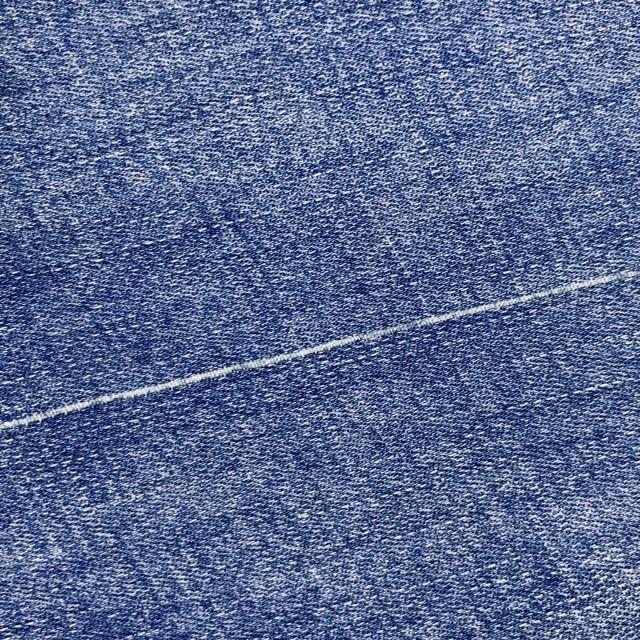Line: (0, 271, 640, 432)
